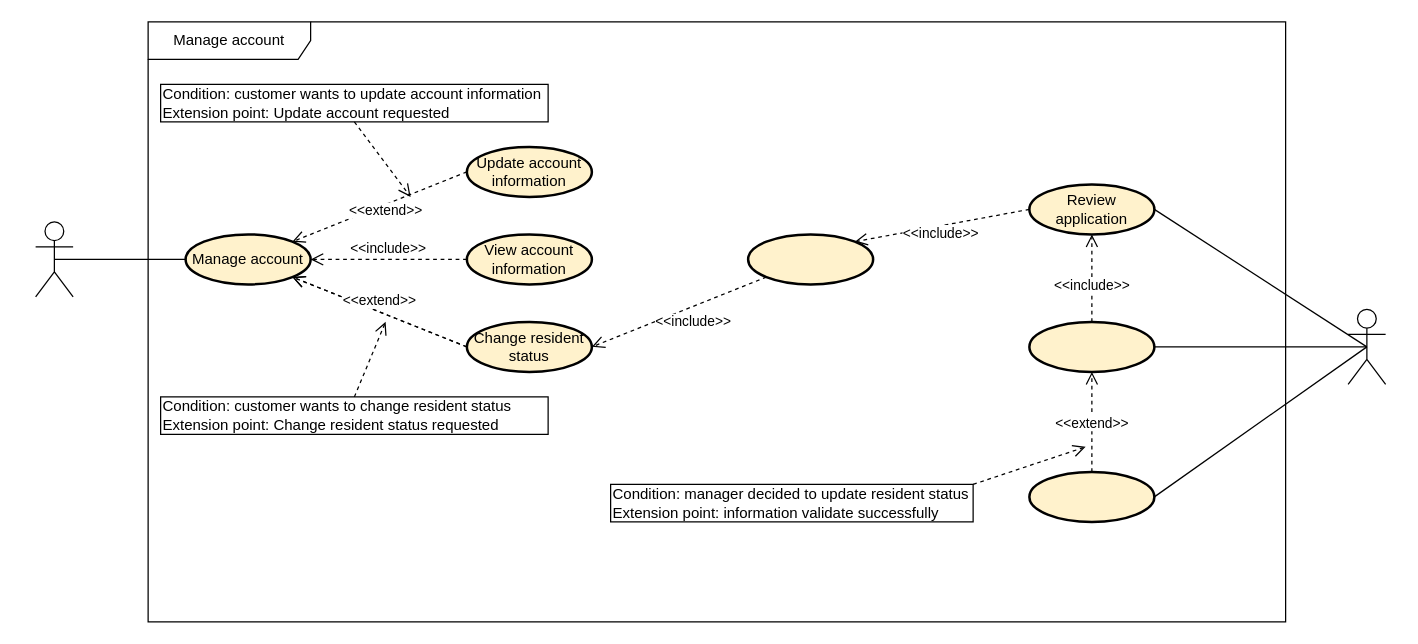
The diagram is 1418 pixels wide and 644 high, and some of its shapes have lost their labels. The box of each missing label's shape, as (x1, y1, x2, y2) in pixels:
Customer: (34, 221, 73, 297)
Manager: (1347, 308, 1386, 384)
Update resident status: (1028, 470, 1155, 522)
Upload evidence: (746, 232, 874, 285)
Validate information: (1028, 320, 1155, 372)
